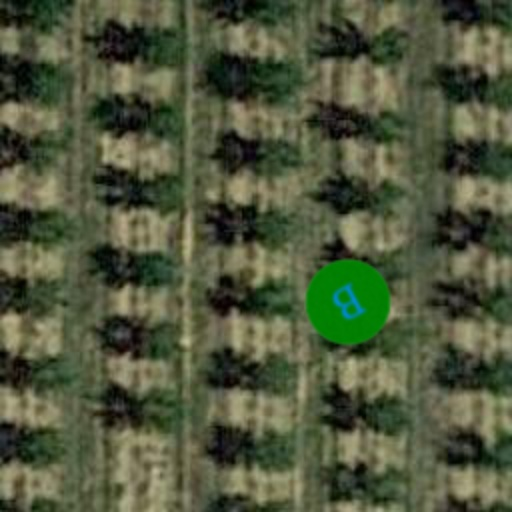circle: (288, 242, 408, 362)
